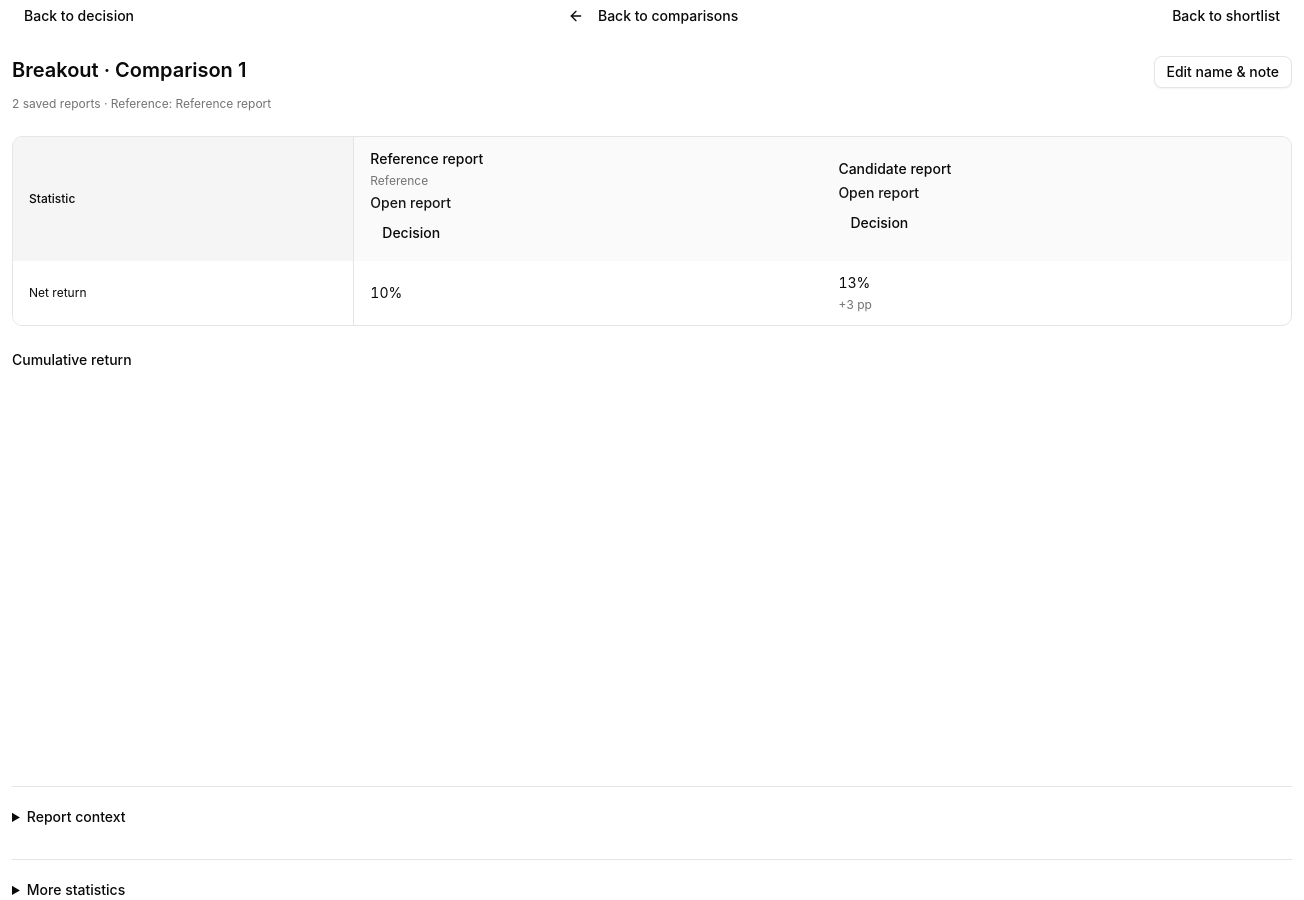
Test: saved comparisons journey › returns from the original comparison to its exact decision event
What coordinates should you click on to do the following:
click the button "Back to decision"
I would click on:
 (79, 16)
Its box is [12, 0, 146, 32].
(page scrolled)
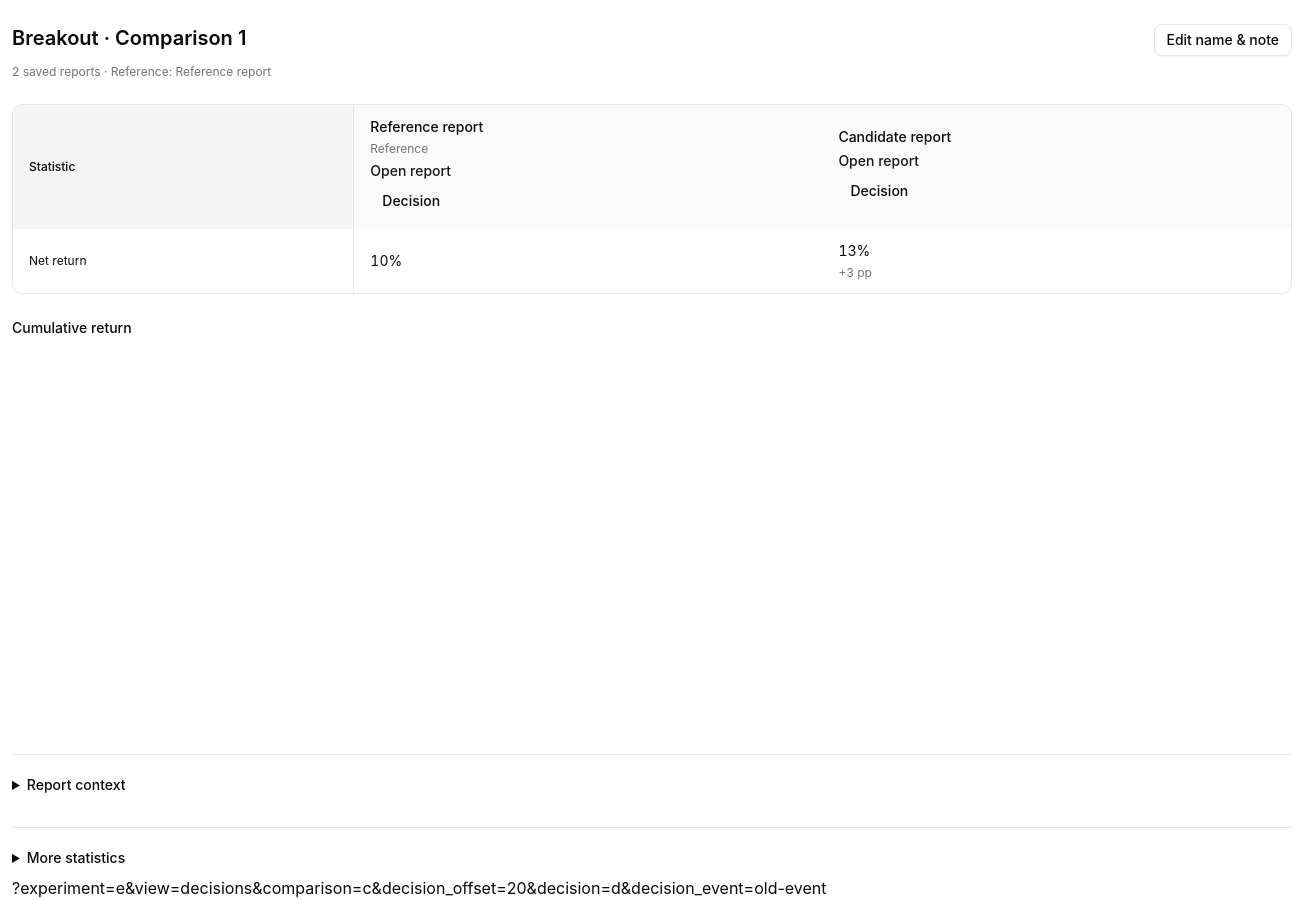
Expected: the text with test id "url" shows "decision_event=old-event", [12, 878, 826, 898]
Expected: the text with test id "url" shows "view=decisions", [12, 878, 826, 898]
